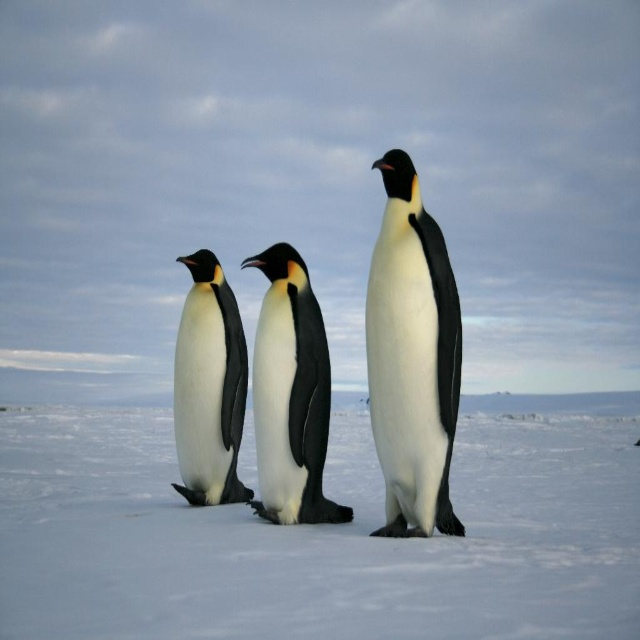Penguin: (361, 151, 468, 543), (240, 240, 354, 527), (175, 250, 254, 505)
